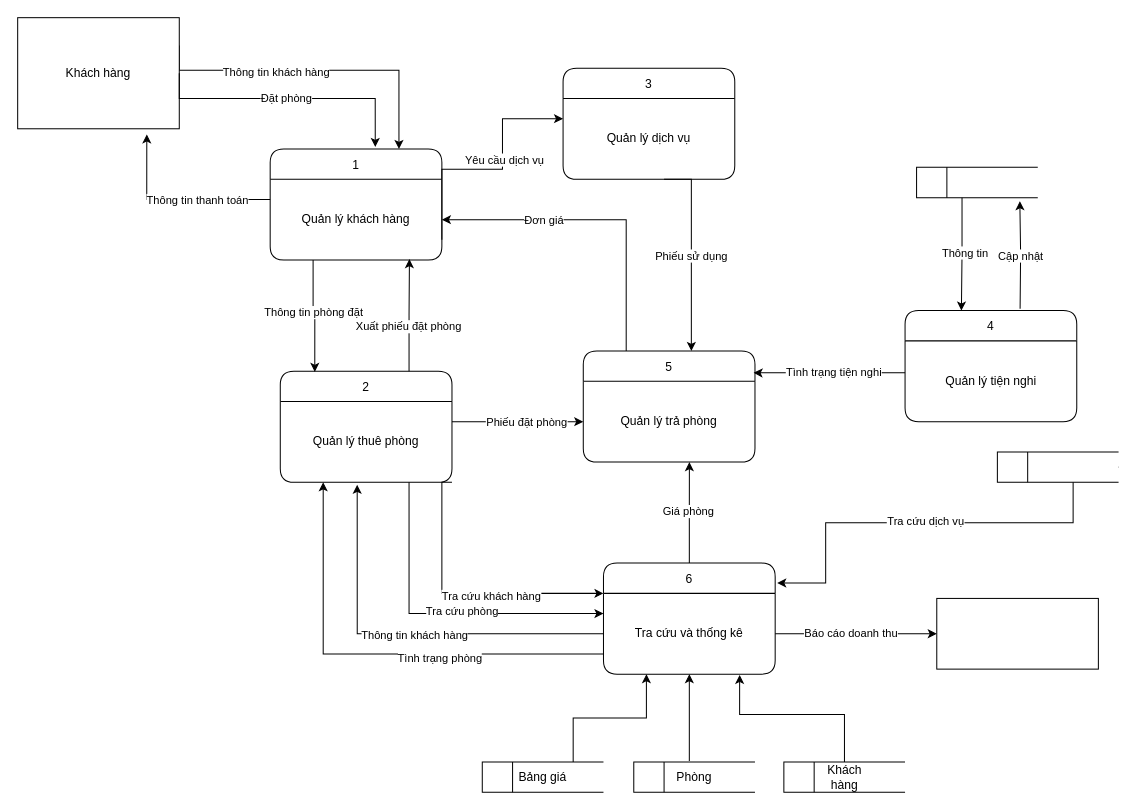
Some shapes in this 1144 by 810 pixel diagram are drawn without their labels. The centre of each missing label's shape, as x and y in pixels:
"Bộ phận quản lý" belongs at pixel 1017 633.
"Dịch vụ" belongs at pixel 1057 466.
"Tiện nghi" belongs at pixel 977 182.
